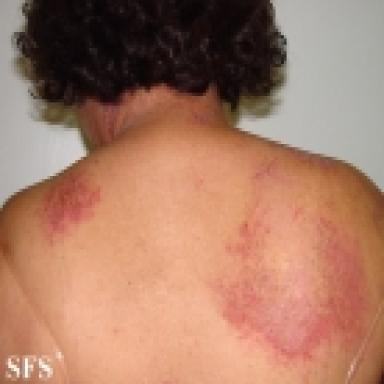Darier_s-Disease: (216, 145, 367, 375), (38, 170, 103, 246)
